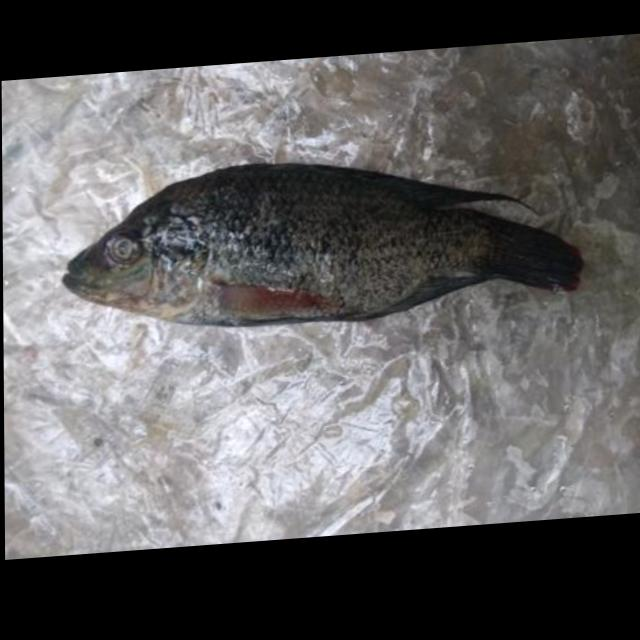Tilapia: (59, 139, 579, 346)
